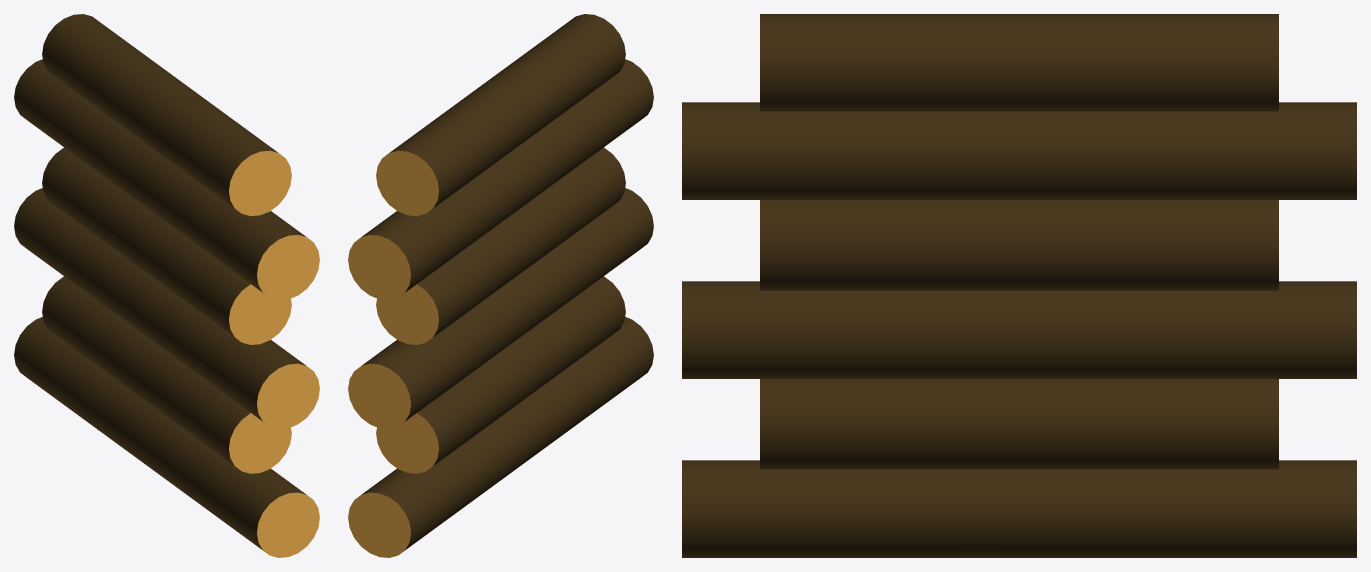
The model's file is wooden_wall_2.glb.
The picture shows the model from 3 angles, left to right: view 1: azimuth 30°, elevation 25°; view 2: azimuth 150°, elevation 25°; view 3: azimuth 270°, elevation 25°; orthographic projection. The views are drawn at different scales.
Visible parts, largest first — view 1: Cylinder.012; view 2: Cylinder.012; view 3: Cylinder.012.
Boxes of the visible parts, box(x1,y1,x2,y2) form: Cylinder.012: box(14, 14, 319, 557); Cylinder.012: box(348, 14, 653, 557); Cylinder.012: box(682, 14, 1356, 557).
Bounding box in the file's own units: 0.6 × 3.5 × 4.
Materials: 1 (1 with a texture image).
